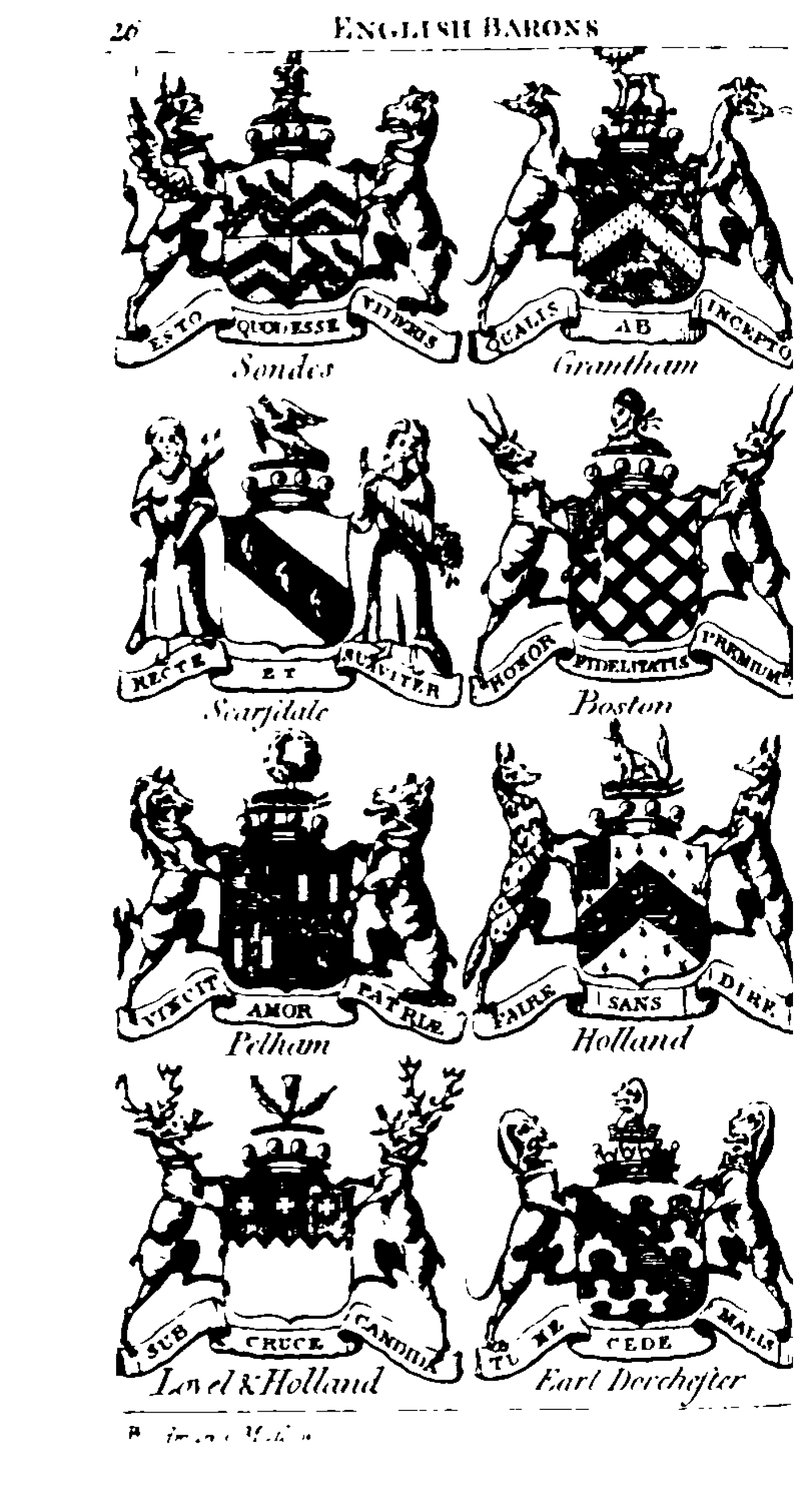coat_of_arms: (111, 1067, 470, 1410), (120, 730, 468, 1064), (124, 51, 465, 391), (468, 47, 801, 395), (124, 399, 467, 729), (473, 1066, 801, 1406), (469, 391, 801, 725), (470, 729, 801, 1063)
